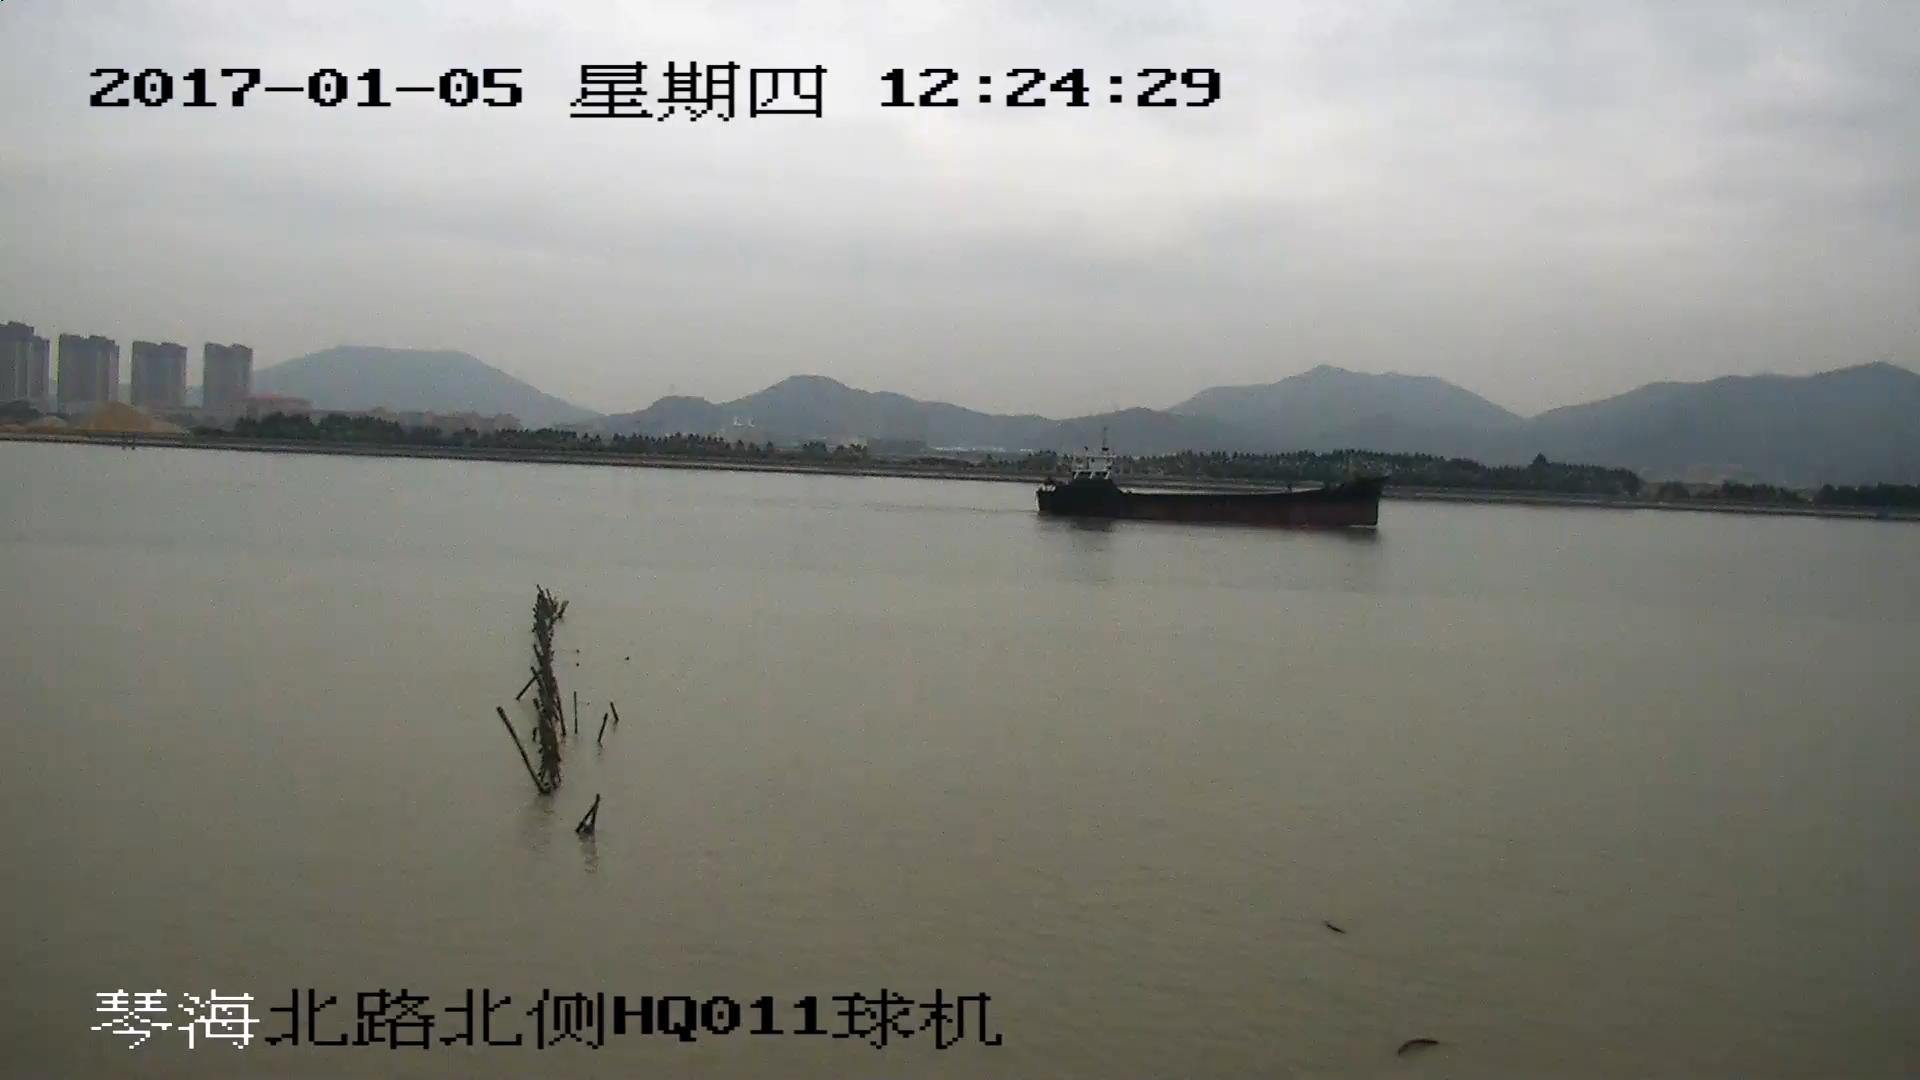general cargo ship: (1033, 451, 1394, 526)
